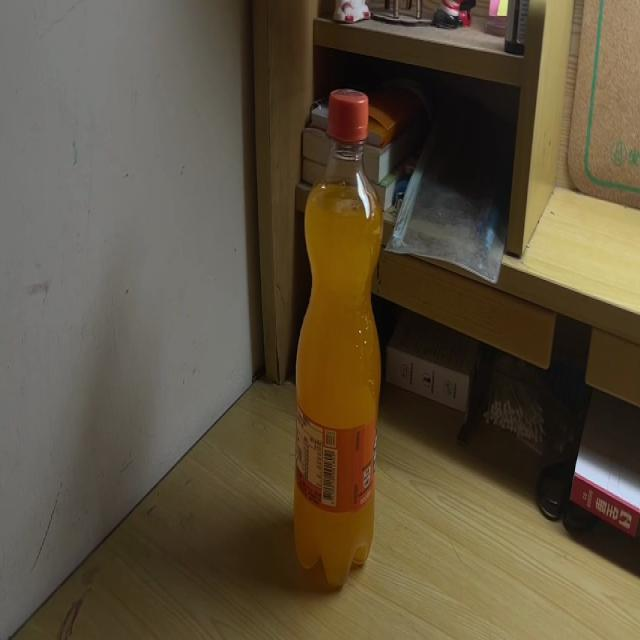Fanta: (293, 88, 381, 594)
